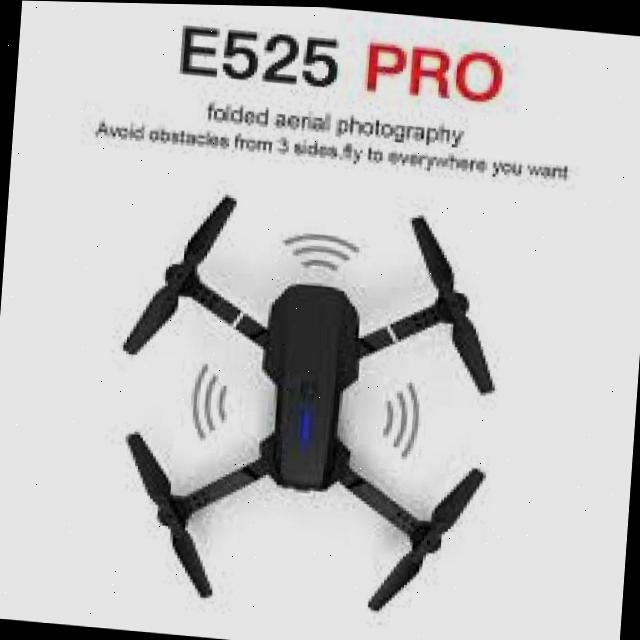drone: (76, 168, 516, 635)
